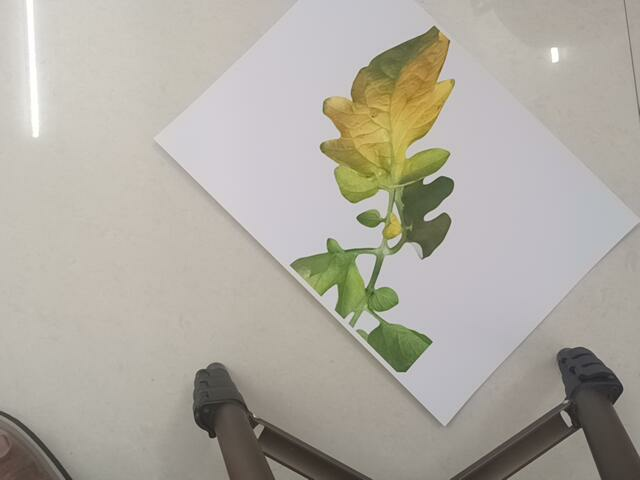Tomamto_Yellow_Disease: (293, 23, 452, 376)
